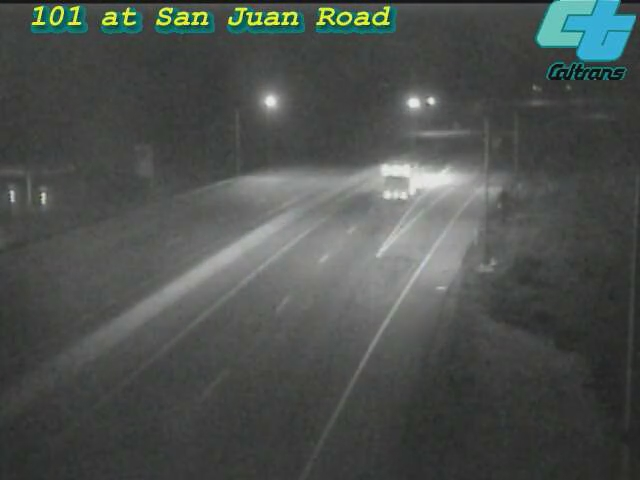vehicle: (360, 144, 440, 224)
